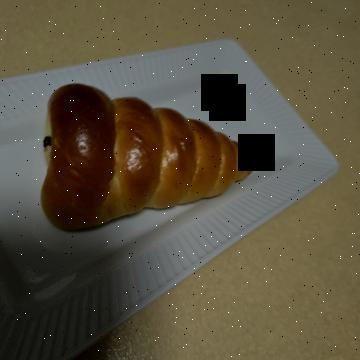cream horn: (70, 91, 258, 343)
